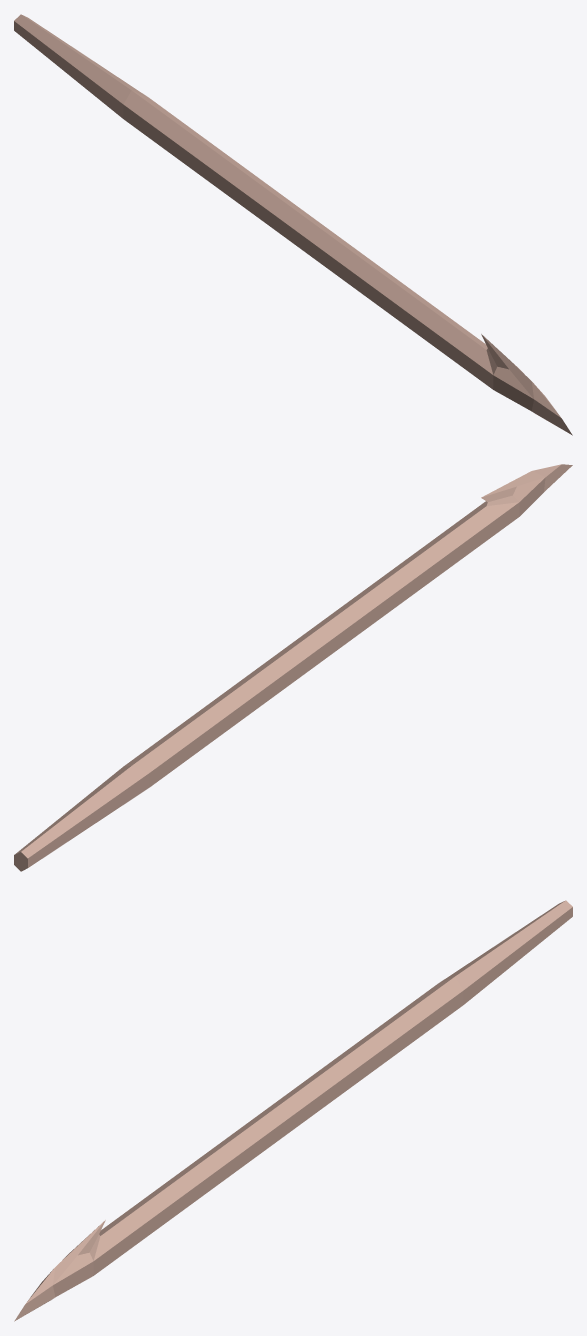
Rendered from Assault Harpoon Shot (FBX).fbx.
The picture shows the model from 3 angles, top to bottom: view 1: azimuth 30°, elevation 25°; view 2: azimuth 150°, elevation 25°; view 3: azimuth 330°, elevation 25°; orthographic projection.
Visible parts, largest first — view 1: Assault Spear Shot; view 2: Assault Spear Shot; view 3: Assault Spear Shot.
Boxes of the visible parts, box(x1,y1,x2,y2) form: Assault Spear Shot: box(14, 14, 572, 435); Assault Spear Shot: box(14, 464, 572, 871); Assault Spear Shot: box(14, 900, 572, 1321).
Size of the model in its own units: 1.48 by 2.3 by 54.15.
